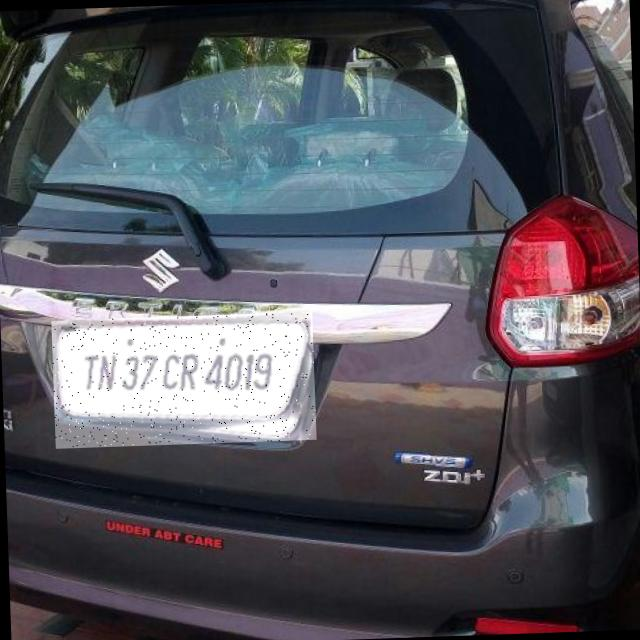Plate: (52, 313, 317, 450)
